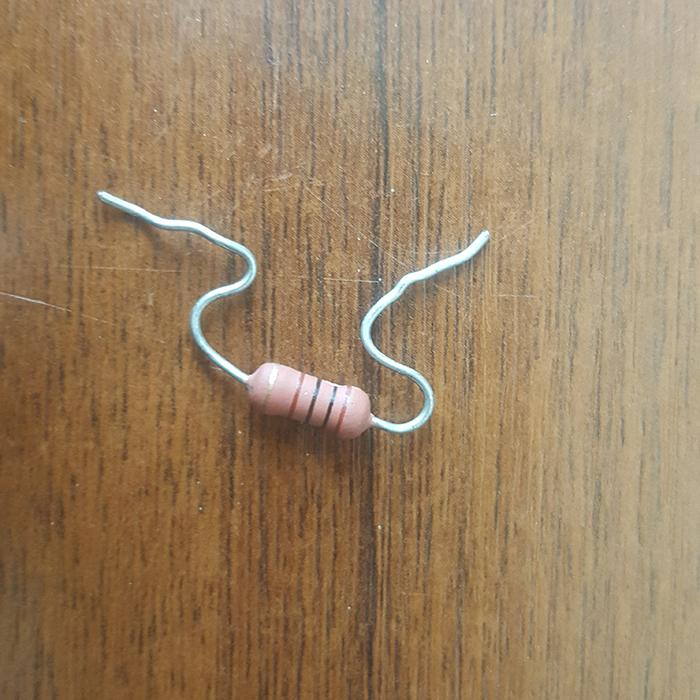resistor: (244, 359, 376, 438)
